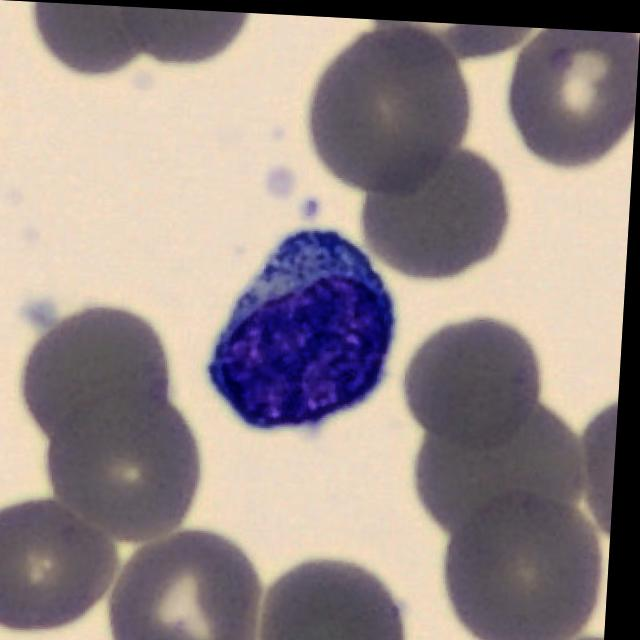Linfocito: (214, 227, 395, 423)
